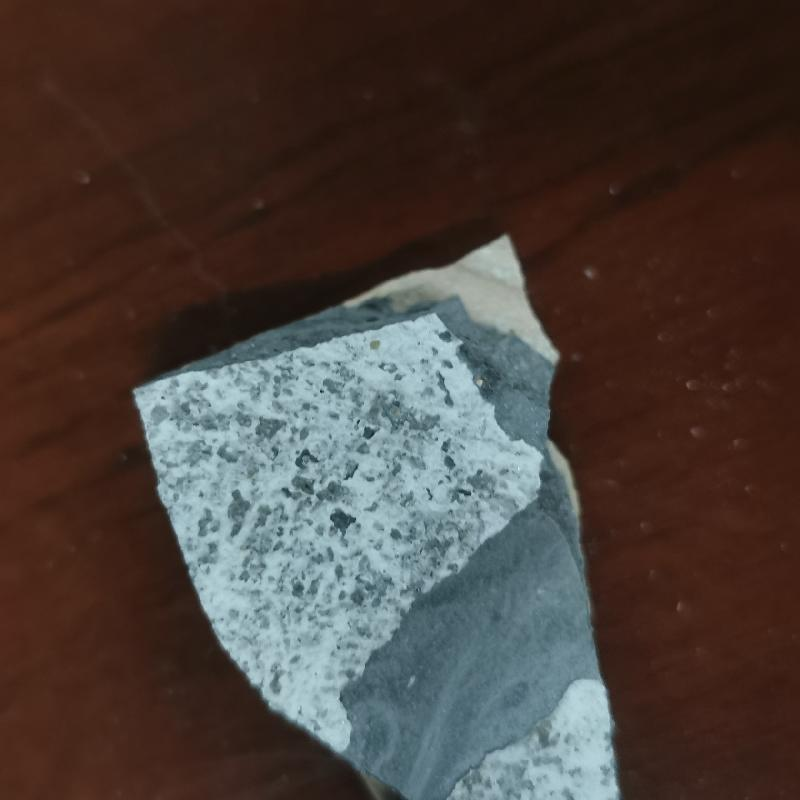tile: (123, 232, 632, 799)
